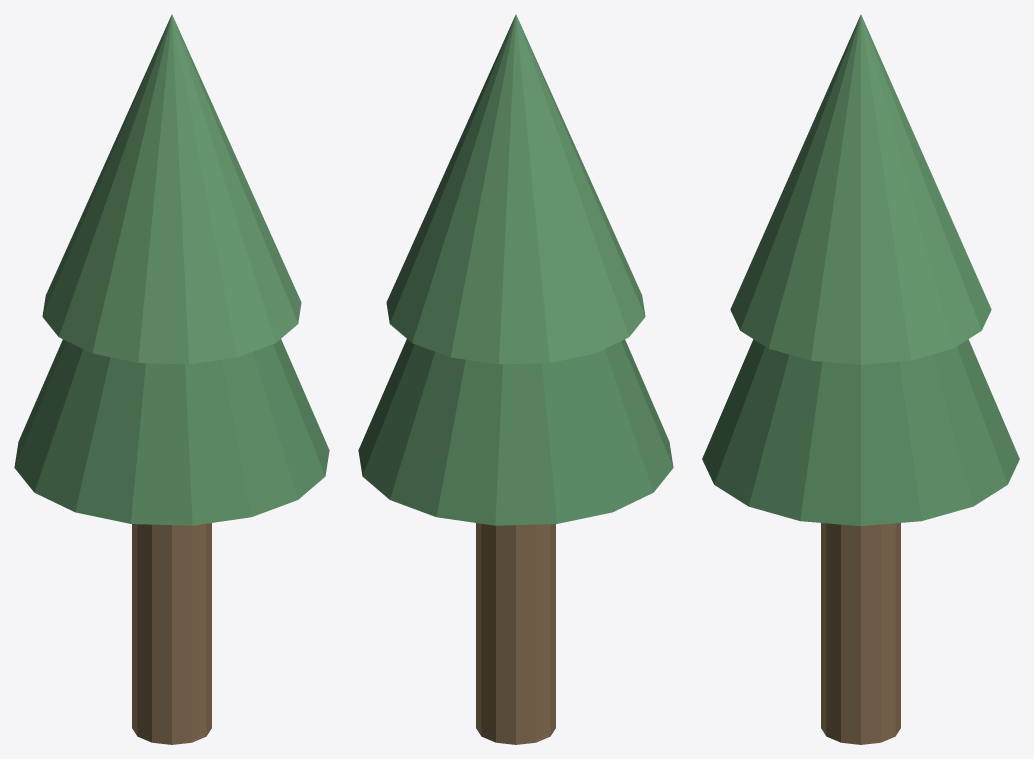
File: massive_snowy_tree.glb
3 views of the same model, side by side, from view 1: azimuth 30°, elevation 25°; view 2: azimuth 150°, elevation 25°; view 3: azimuth 270°, elevation 25° (orthographic).
Parts seen in each view (by area): view 1: tree_0_2, tree_0_1, tree_0_0; view 2: tree_0_2, tree_0_1, tree_0_0; view 3: tree_0_2, tree_0_1, tree_0_0.
Boxes of the visible parts, left/top/right/bottom form: tree_0_2: left=42, top=14, right=301, bottom=364; tree_0_1: left=14, top=339, right=329, bottom=525; tree_0_0: left=132, top=523, right=211, bottom=744; tree_0_2: left=386, top=14, right=645, bottom=364; tree_0_1: left=358, top=339, right=673, bottom=525; tree_0_0: left=476, top=523, right=555, bottom=744; tree_0_2: left=730, top=14, right=991, bottom=364; tree_0_1: left=702, top=339, right=1019, bottom=526; tree_0_0: left=821, top=523, right=900, bottom=744.
Size of the model in its own units: 1.85 by 4.58 by 1.85.
